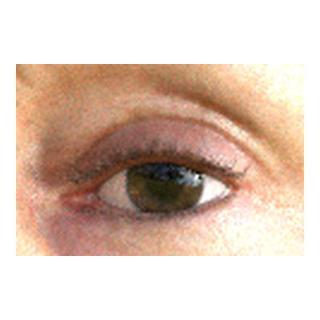pupil: (147, 165, 181, 198)
